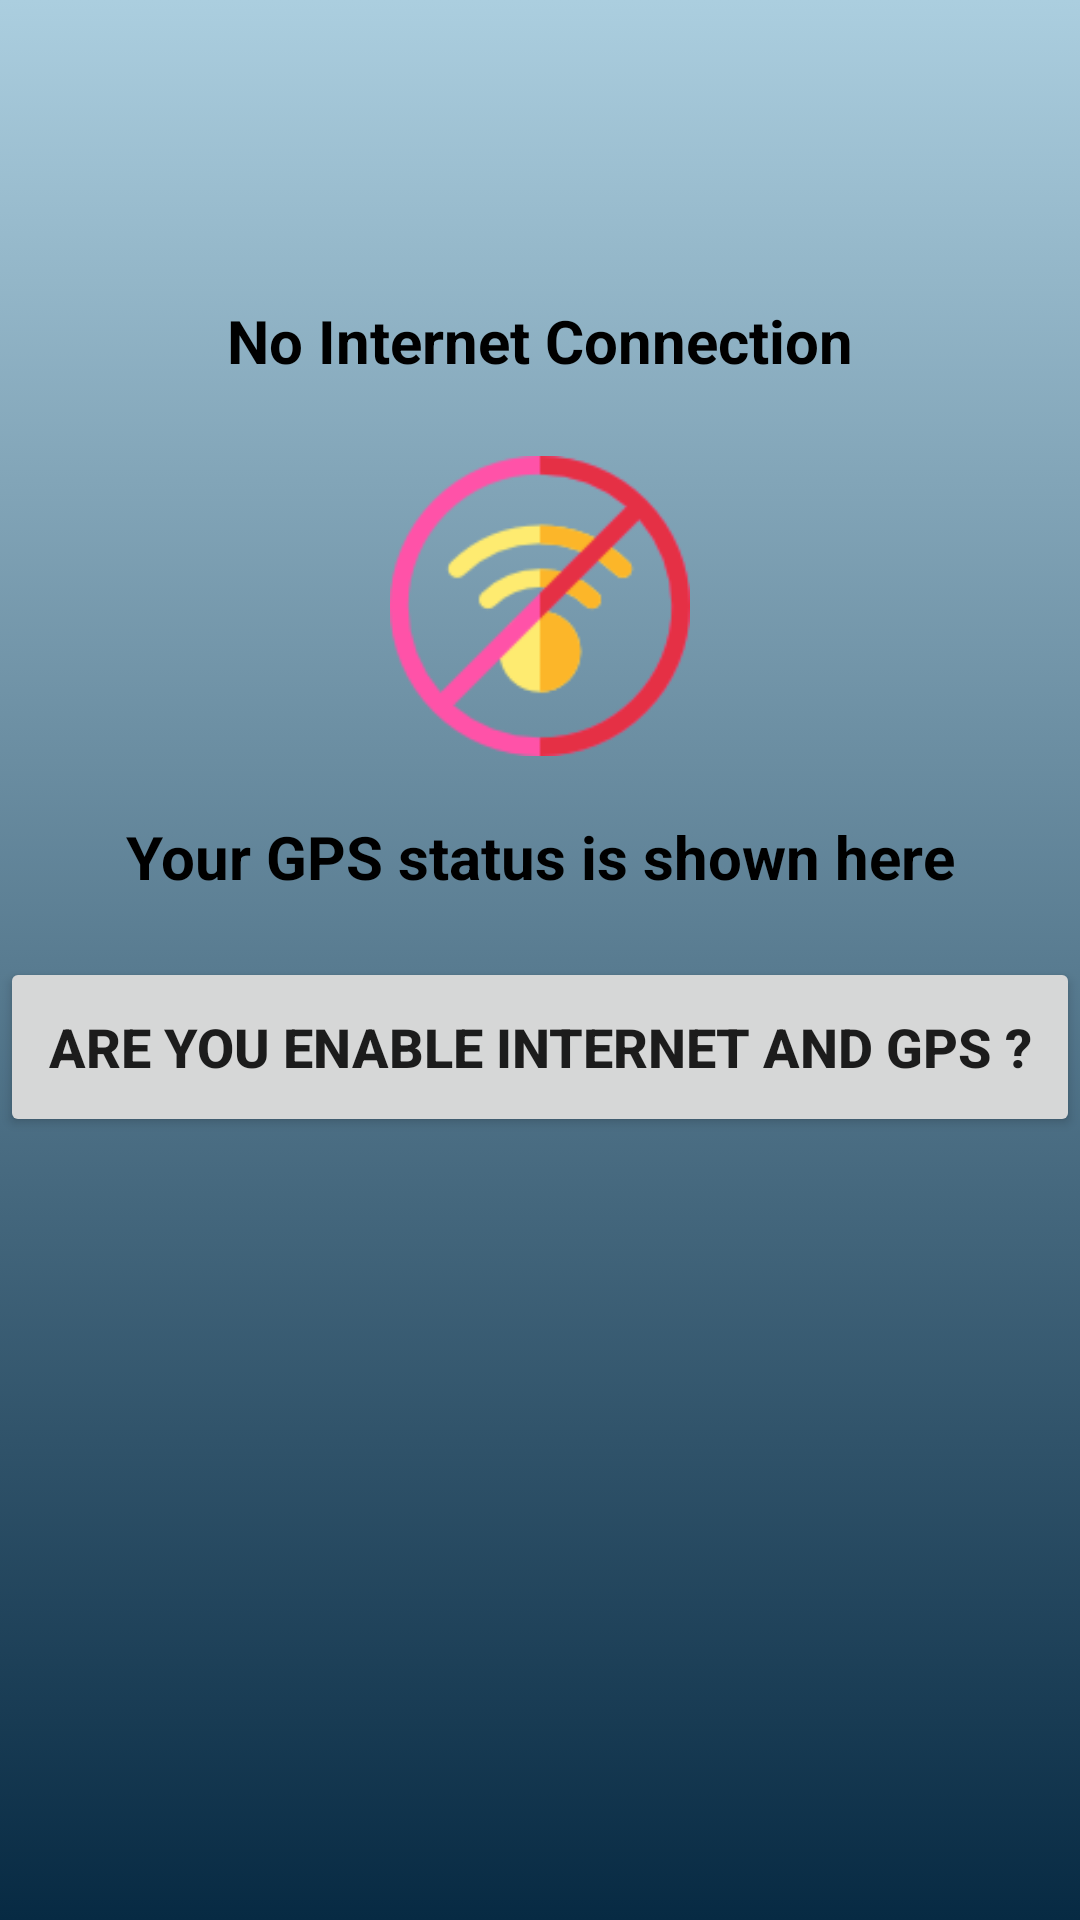

Screen size 1080 x 1920. Icon name, then its box in pixels as region(x1, y1, x2, y2):
nowifi: region(390, 456, 690, 756)
